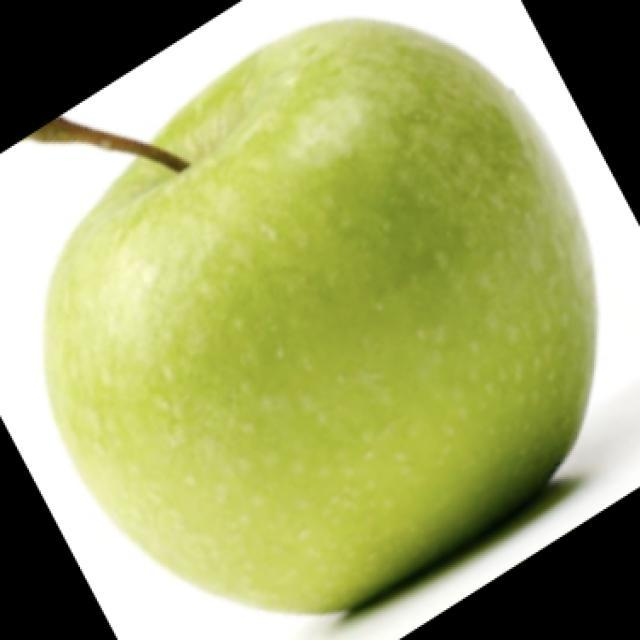Apple: (29, 16, 599, 617)
